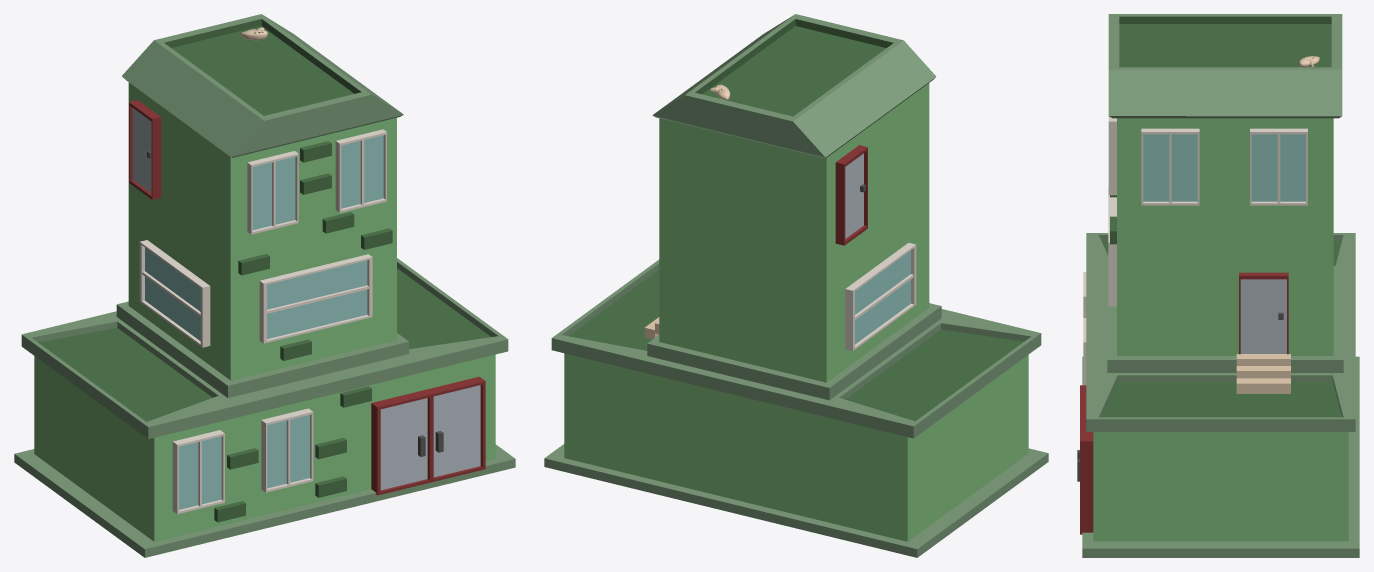
Rendered from GreenBuilding.fbx.
3 views of the same model, side by side, from view 1: azimuth 30°, elevation 25°; view 2: azimuth 150°, elevation 25°; view 3: azimuth 270°, elevation 25° (orthographic). The views are drawn at different scales.
Parts seen in each view (by area): view 1: pCube135; view 2: pCube135; view 3: pCube135.
Part boxes in pixels (bbox=[...]): pCube135: bbox=[14, 14, 515, 557]; pCube135: bbox=[544, 14, 1048, 557]; pCube135: bbox=[1077, 14, 1359, 557].
Size of the model in its own units: 20.85 by 21.32 by 12.94.
